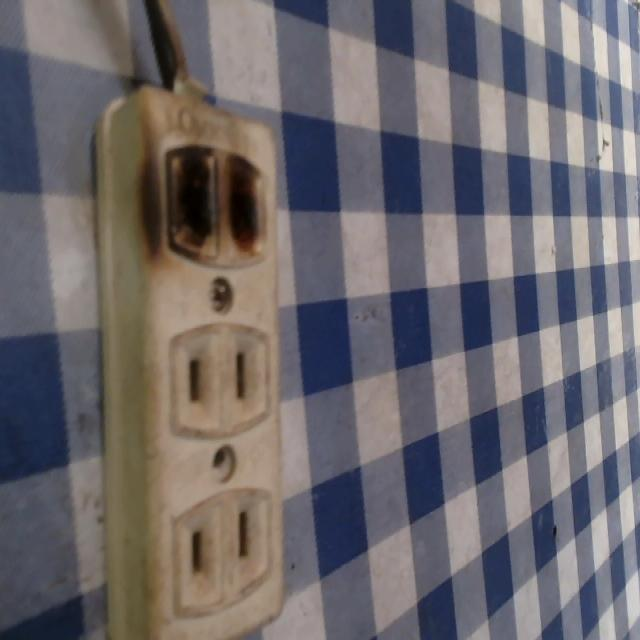-: (143, 119, 281, 277)
